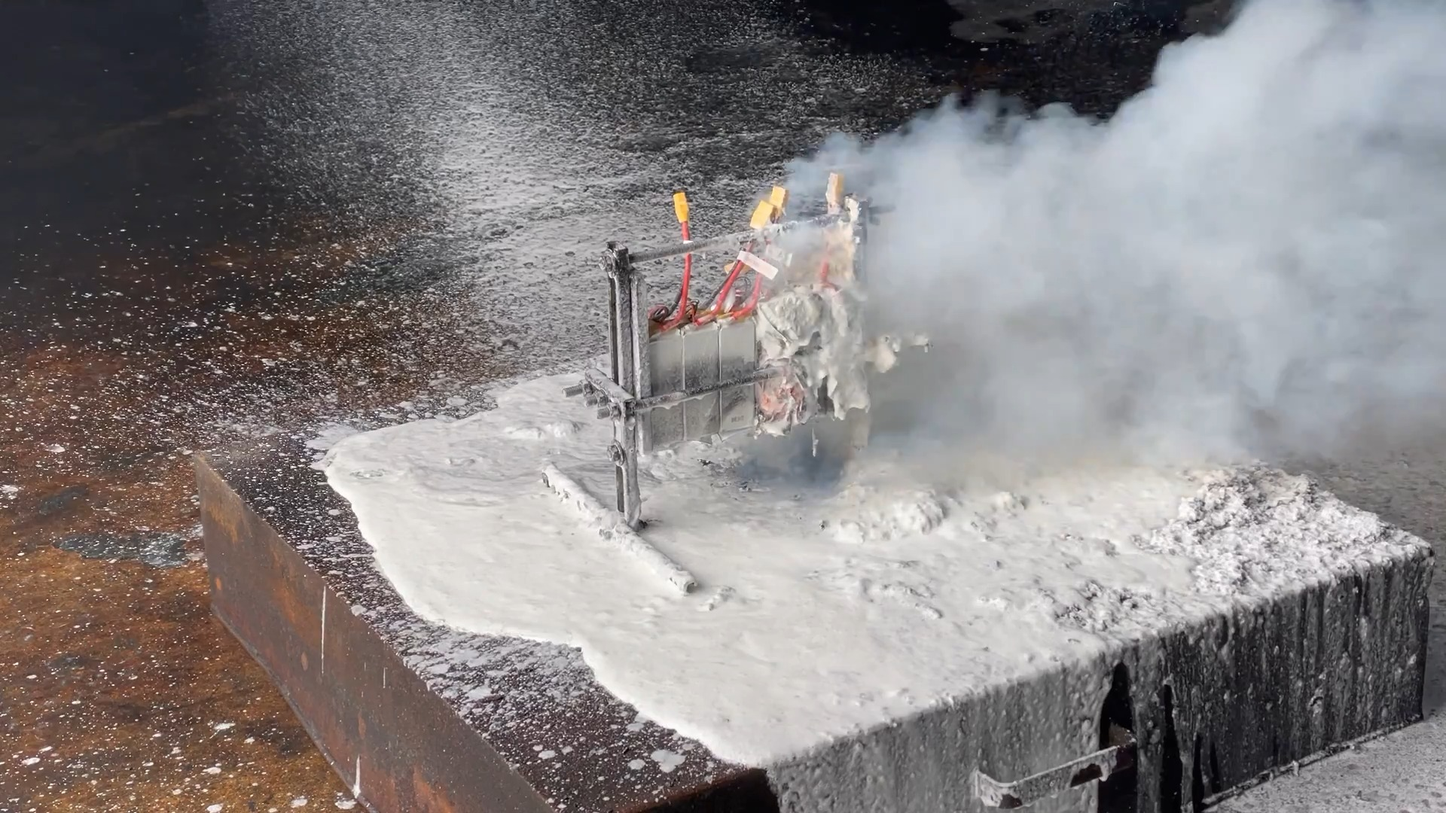smoke: (776, 0, 1446, 485)
